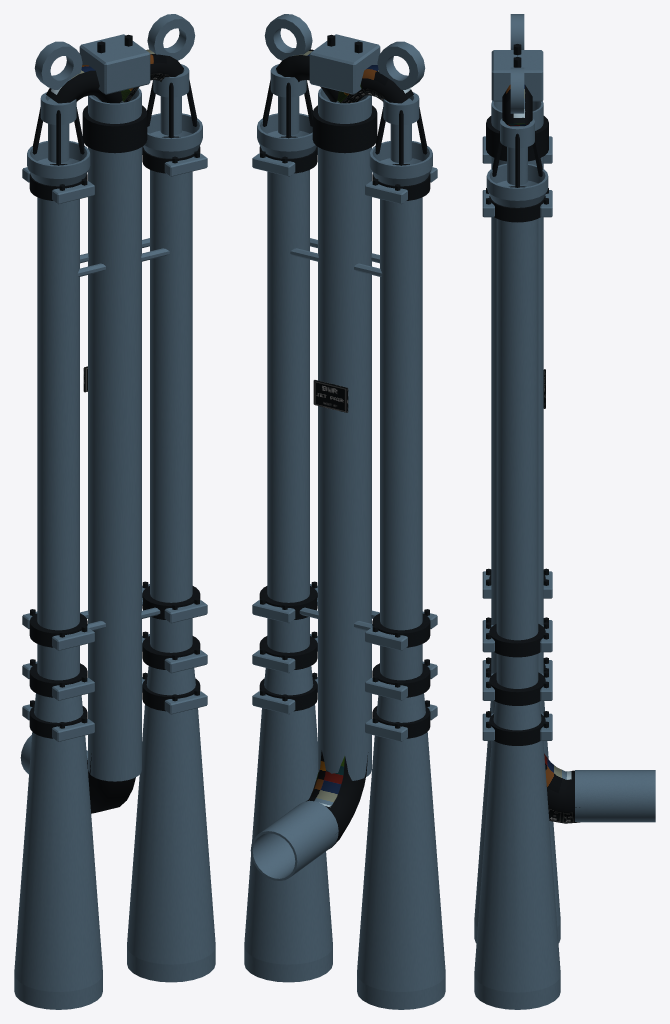
Rendered from assembled.obj.
3 views of the same model, side by side, from view 1: azimuth 30°, elevation 25°; view 2: azimuth 150°, elevation 25°; view 3: azimuth 270°, elevation 25° (orthographic). The views are drawn at different scales.
Visible parts, largest first — view 1: jet_pump; view 2: jet_pump; view 3: jet_pump.
Part boxes in pixels (x1,y1,x2,y2): jet_pump: (14, 14, 215, 1009); jet_pump: (244, 14, 445, 1009); jet_pump: (474, 14, 655, 1009).
Size of the model in its own units: 1.11 by 5.3 by 0.9455.
